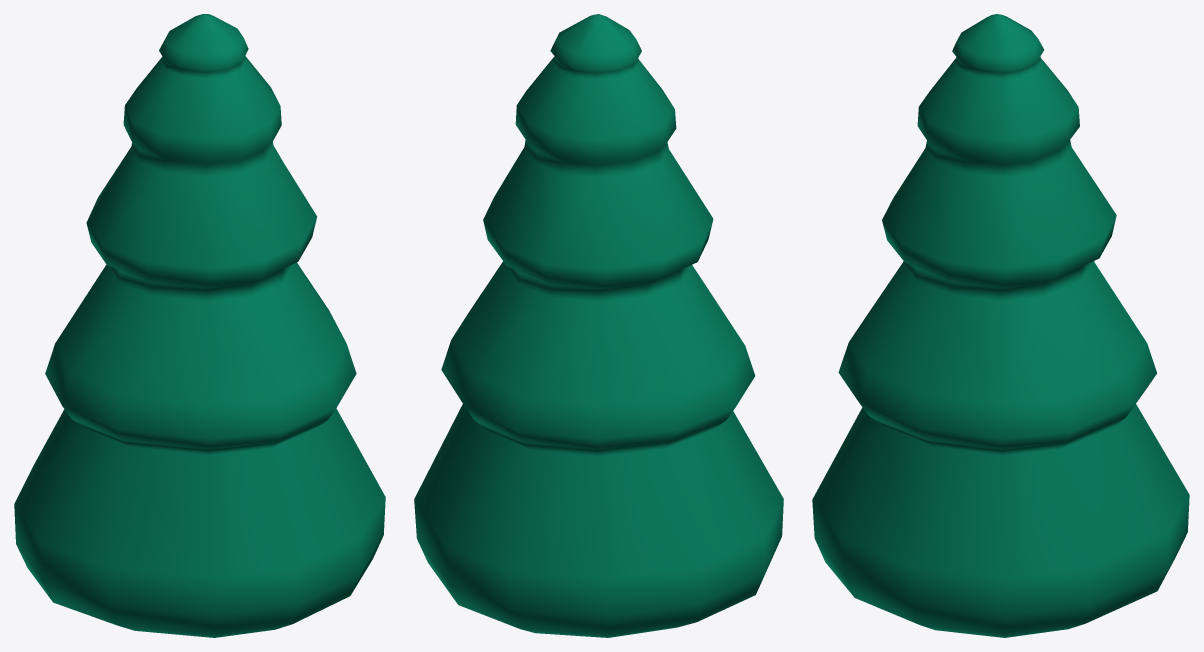
Rendered from SM_Fir_04.fbx.
3 renders of one model, left to right at view 1: azimuth 30°, elevation 25°; view 2: azimuth 150°, elevation 25°; view 3: azimuth 270°, elevation 25°, orthographic.
Parts seen in each view (by area): view 1: SM_Fir_04; view 2: SM_Fir_04; view 3: SM_Fir_04.
Boxes of the visible parts, <box> form: SM_Fir_04: <box>14,14,385,637</box>; SM_Fir_04: <box>414,14,783,637</box>; SM_Fir_04: <box>812,14,1189,637</box>.
Size of the model in its own units: 351 by 580 by 351.
